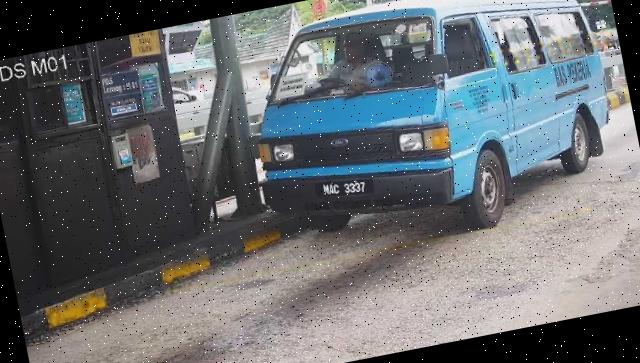License_Plate: (314, 172, 376, 208)
van: (232, 1, 629, 269)
